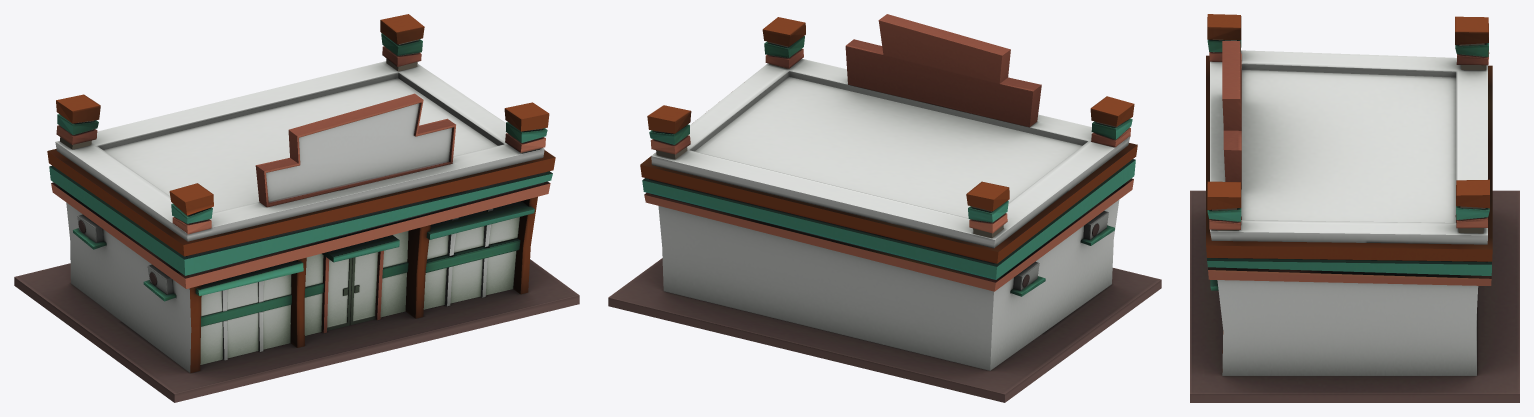
Rendered from b_indomaret.FBX.
The picture shows the model from 3 angles, left to right: view 1: azimuth 30°, elevation 25°; view 2: azimuth 150°, elevation 25°; view 3: azimuth 270°, elevation 25°; orthographic projection. The views are drawn at different scales.
Visible parts, largest first — view 1: Indomaret; view 2: Indomaret; view 3: Indomaret.
Part boxes in pixels (x1,y1,x2,y2): Indomaret: (14, 14, 579, 402); Indomaret: (608, 14, 1161, 402); Indomaret: (1190, 14, 1519, 402).
Bounding box in the file's own units: 156 × 83.28 × 107.
